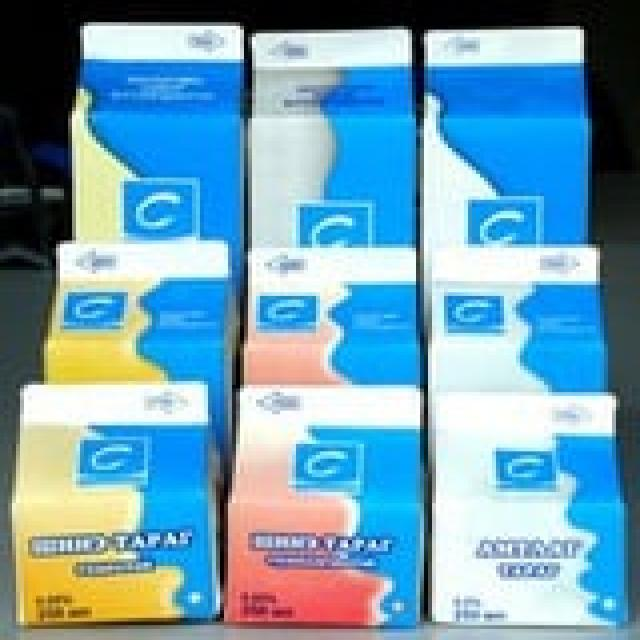Carton: (416, 373, 640, 640), (8, 370, 222, 632), (61, 8, 244, 295), (226, 376, 428, 636), (421, 8, 602, 280), (42, 236, 260, 454), (241, 19, 418, 280), (234, 243, 434, 446), (424, 234, 616, 431)
